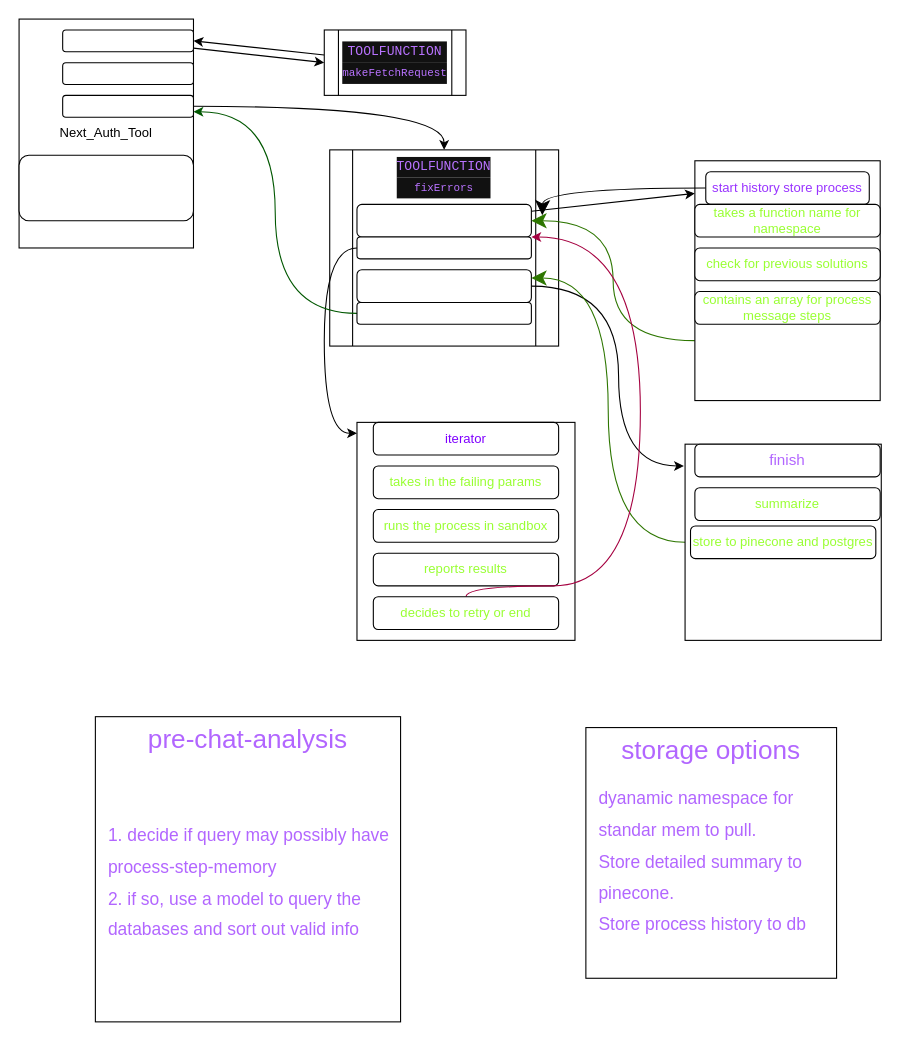
Image size: 900x1041. Some labels were removed from this diagram. The centre of each missing label's shape, as x and y in pixels:
add logic to mem check to check for stored platform solutions: point (105, 187)
iterate process: point (443, 247)
makeFetchRequest(): point (127, 40)
queryAPIHelp(): point (127, 73)
resolveErrors(): point (127, 105)
return valid code to agent: point (443, 312)
start 'TOOL-OPTIMIZATION' object: point (443, 220)
summarize and store to memory: point (443, 285)
